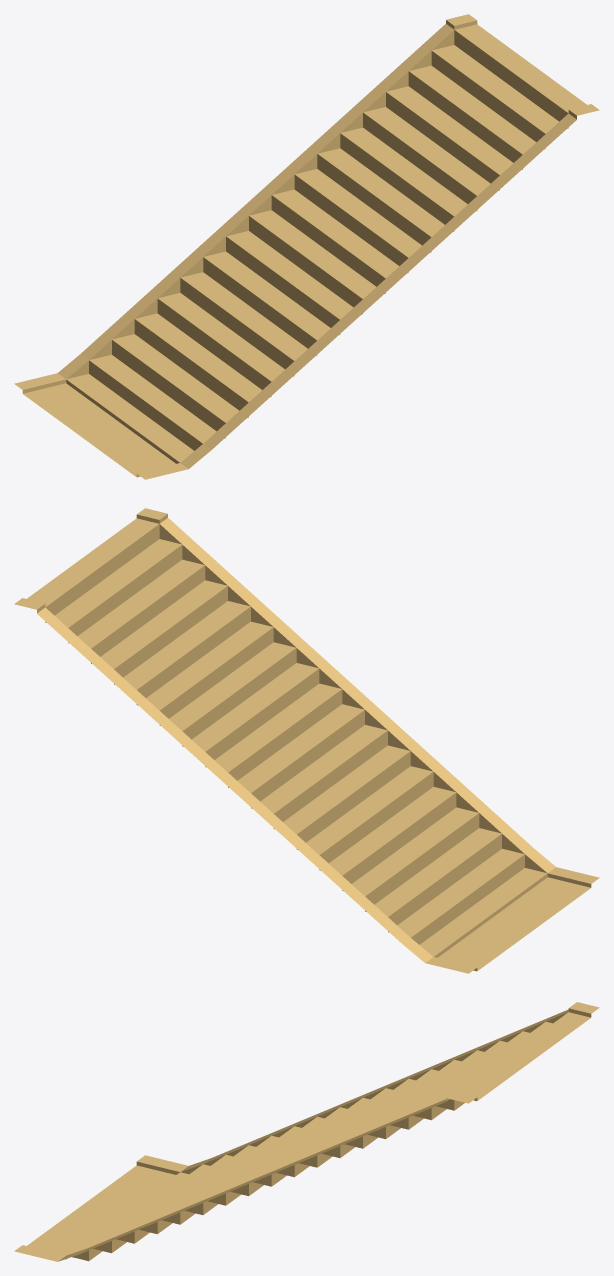
File: BasementStaircase.fbx
3 views of the same model, one above another, from view 1: azimuth 30°, elevation 25°; view 2: azimuth 150°, elevation 25°; view 3: azimuth 330°, elevation 25° (orthographic).
Parts seen in each view (by area): view 1: BasementStaircase; view 2: BasementStaircase; view 3: BasementStaircase.
Boxes of the visible parts, x1,y1,x2,y2 form: BasementStaircase: (14, 14, 599, 479); BasementStaircase: (14, 508, 599, 973); BasementStaircase: (14, 1002, 599, 1261).
Bounding box in the file's own units: 736 × 406 × 368.
